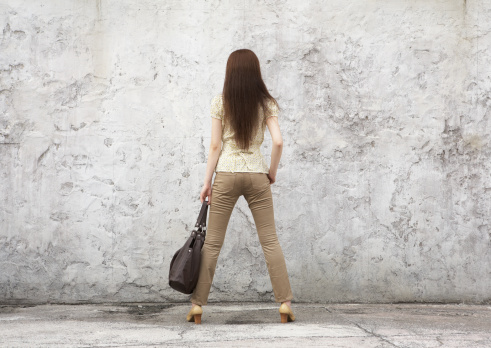em pe: (188, 55, 293, 300)
